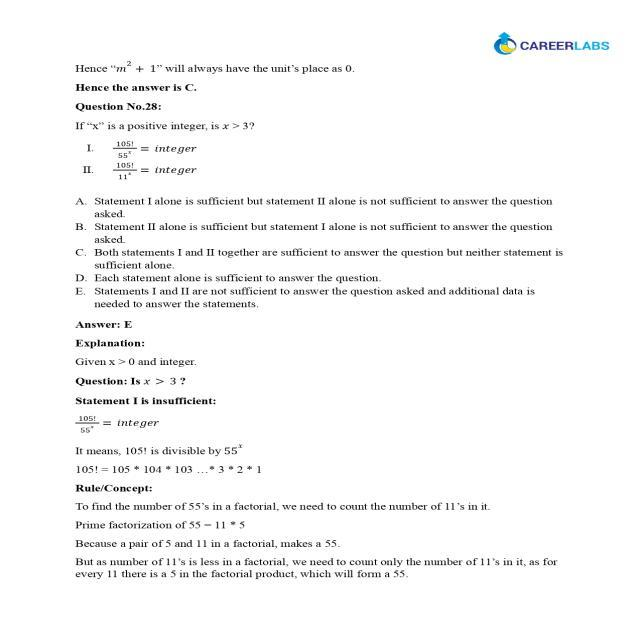Answer_Block: (58, 182, 595, 314)
Description: (58, 314, 595, 584), (58, 58, 595, 98)
Question_Answer_Block: (58, 100, 595, 314)
Question_Block: (58, 100, 595, 184)
Question_Paper_Area: (58, 58, 595, 584)
